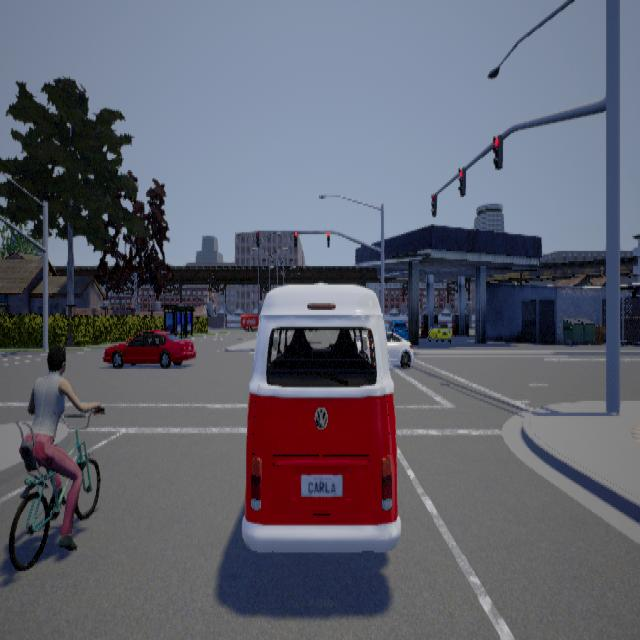bike: (4, 332, 107, 571)
red_light: (492, 133, 502, 168), (457, 165, 465, 195), (430, 192, 436, 216), (255, 229, 259, 246), (326, 229, 329, 246), (293, 229, 296, 246)
vehicle: (240, 280, 402, 550), (101, 329, 196, 367), (350, 323, 412, 372)
